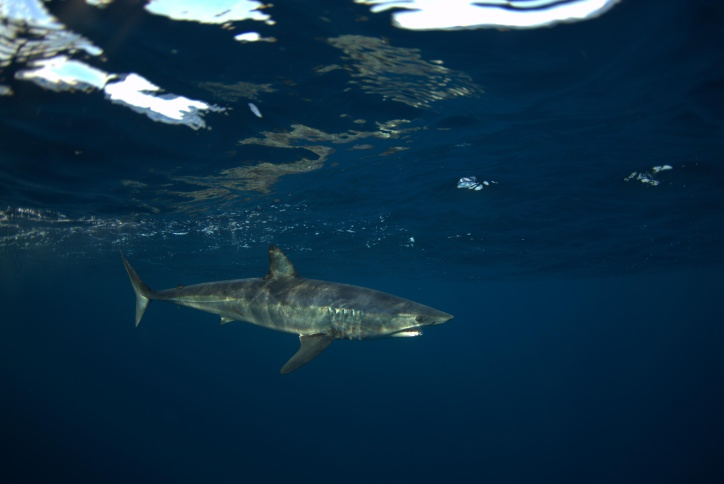Mako: (109, 240, 468, 381)
